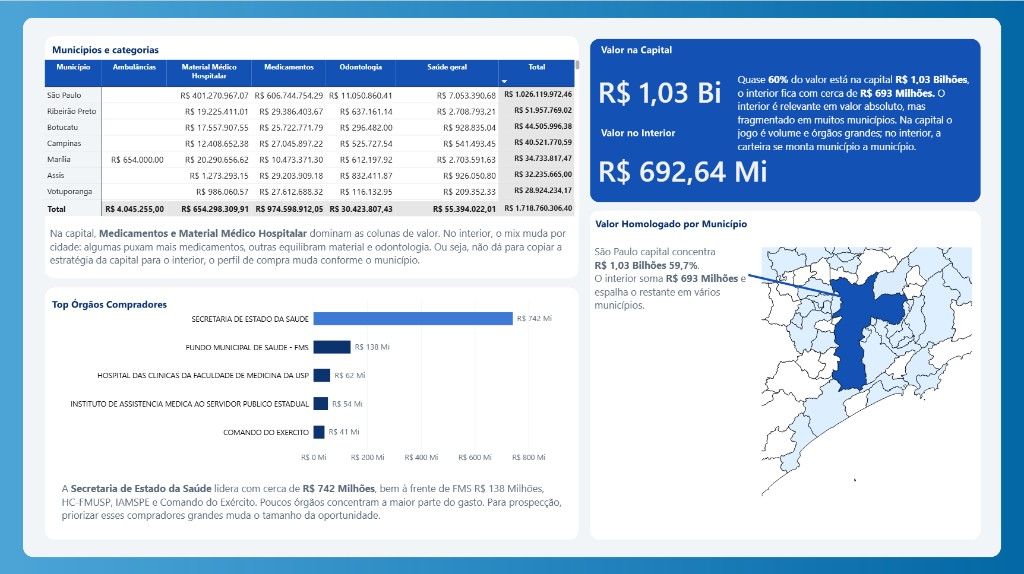

This screenshot's page, from the dashboard's own definition file:
{"tool":"powerbi","page":{"name":"Insights Geografia (SP)","canvas":[1920,1080],"ordinal":6},"visuals":[{"type":"shapeMap","fields":{"Category":["pncp vw_analitica.codigo_ibge"],"Value":["Medidas.Valor Homologado"]},"box":[1411.4,447.6,425.1,550.6],"z":0},{"type":"clusteredBarChart","fields":{"Category":["pncp vw_analitica.orgao"],"Y":["Medidas.Valor Homologado"]},"box":[86.9,540.4,996.7,346.3],"z":1000},{"type":"pivotTable","fields":{"Columns":["pncp vw_analitica.Categoria Label"],"Rows":["pncp vw_analitica.municipio"],"Values":["Sum(pncp vw_analitica.valor_total_homologado)"]},"box":[70,96.4,1033.3,323.2],"z":2000},{"type":"cardVisual","fields":{"Data":["Medidas.Valor Homologado"]},"box":[1103.9,259.3,358.5,114.1],"z":3000},{"type":"cardVisual","fields":{"Data":["Medidas.Valor Homologado"]},"box":[1103.9,111.3,297.4,114.1],"z":4000},{"type":"shape","box":[1400.8,456.8,245.6,170.3],"z":5000},{"type":"textbox","box":[1114.3,456.8,296.7,125.7],"z":6000},{"type":"textbox","box":[1382.3,134.4,441.3,180.6],"z":7000},{"type":"textbox","box":[118.1,900.3,996.7,99.1],"z":8000},{"type":"textbox","box":[95.1,422.5,996.8,88.5],"z":9000}]}

Visuals, with their boxes in screenshot pixels (x1, y1, x2, y2), scaled from the page's 1920x1080 canvas onto the 1024x574 screenshot:
shapeMap - pncp vw_analitica.codigo_ibge x Medidas.Valor Homologado: x1=753 y1=238 x2=979 y2=531
clusteredBarChart - pncp vw_analitica.orgao x Medidas.Valor Homologado: x1=46 y1=287 x2=578 y2=471
pivotTable - pncp vw_analitica.Categoria Label x pncp vw_analitica.municipio: x1=37 y1=51 x2=588 y2=223
cardVisual - Medidas.Valor Homologado: x1=589 y1=138 x2=780 y2=198
cardVisual - Medidas.Valor Homologado: x1=589 y1=59 x2=747 y2=120
shape: x1=747 y1=243 x2=878 y2=333
textbox: x1=594 y1=243 x2=753 y2=310
textbox: x1=737 y1=71 x2=973 y2=167
textbox: x1=63 y1=478 x2=595 y2=531
textbox: x1=51 y1=225 x2=582 y2=272
